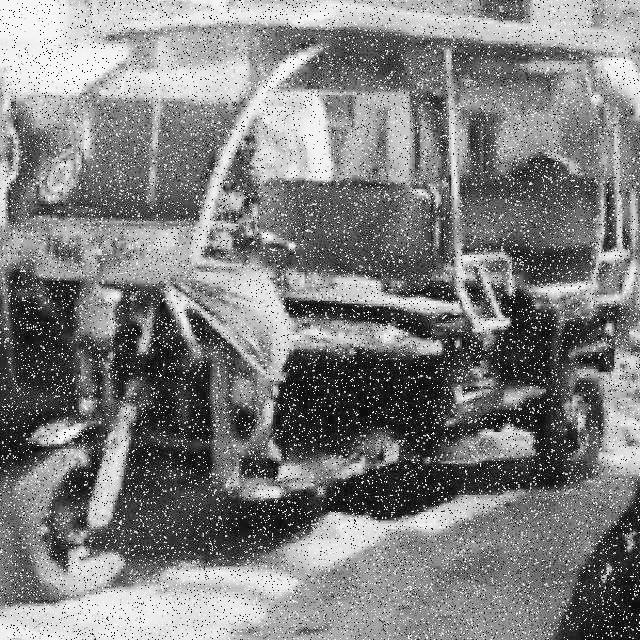Toto: (15, 3, 640, 601)
